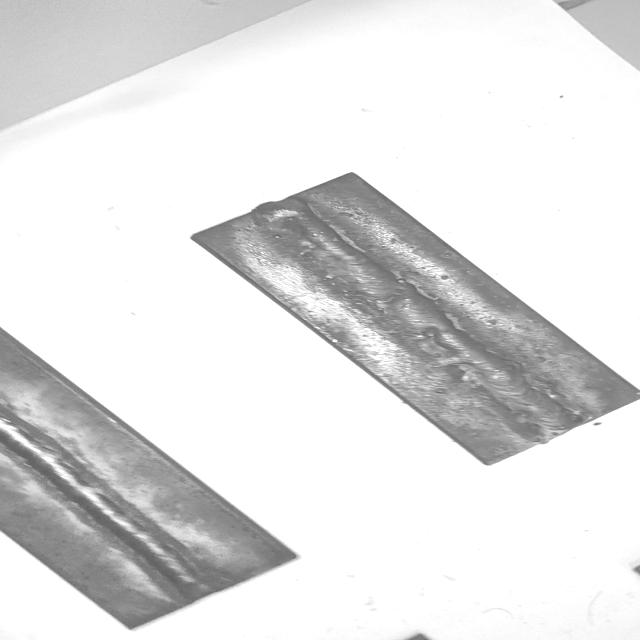Good Weld: (276, 206, 578, 434), (0, 401, 212, 600)
